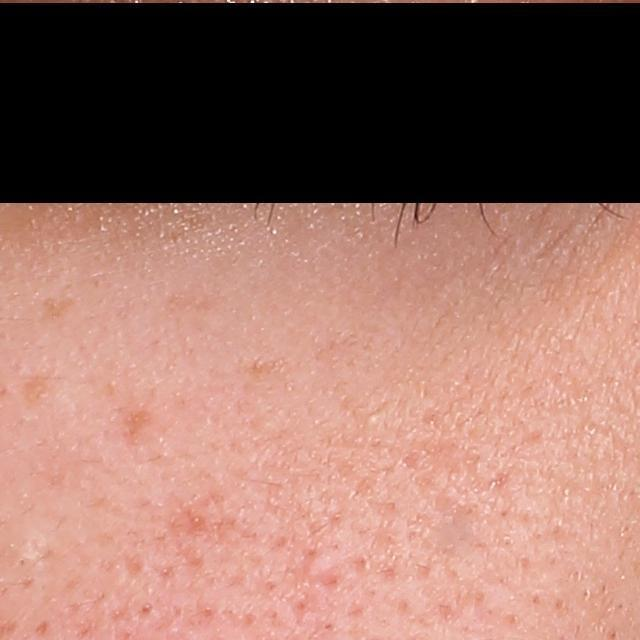melasma: (14, 366, 68, 417), (38, 295, 76, 320)
